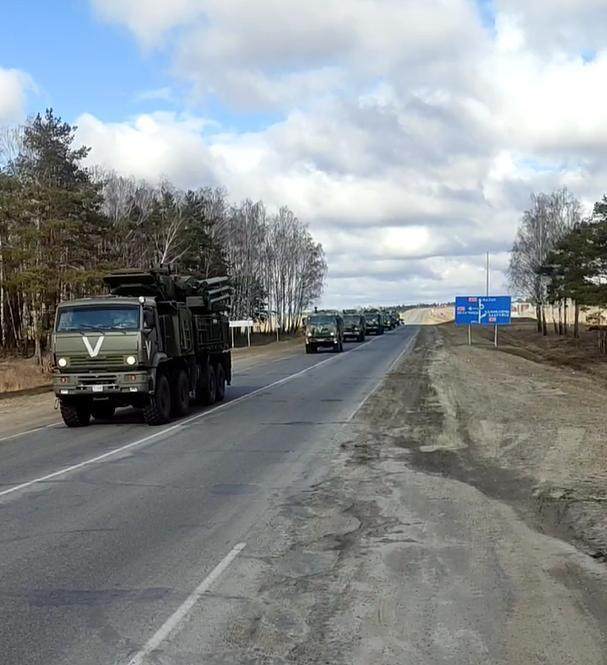truck: (45, 269, 240, 424), (301, 308, 345, 354), (343, 310, 370, 343), (370, 308, 385, 332)
